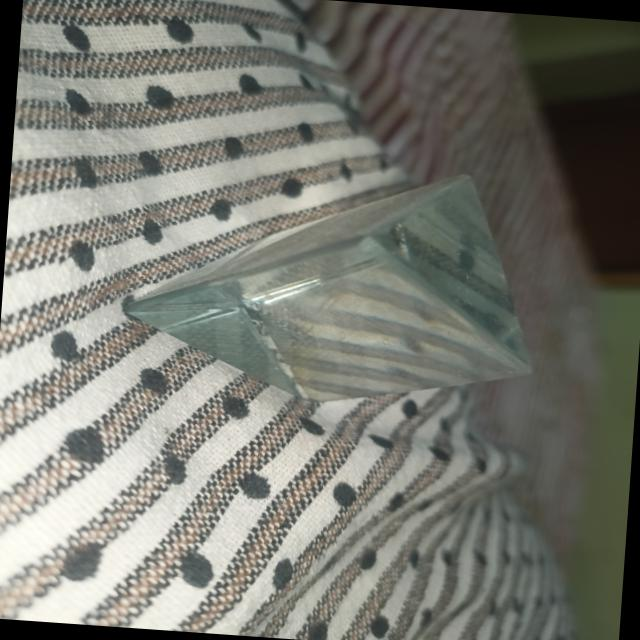glass: (81, 142, 557, 453)
